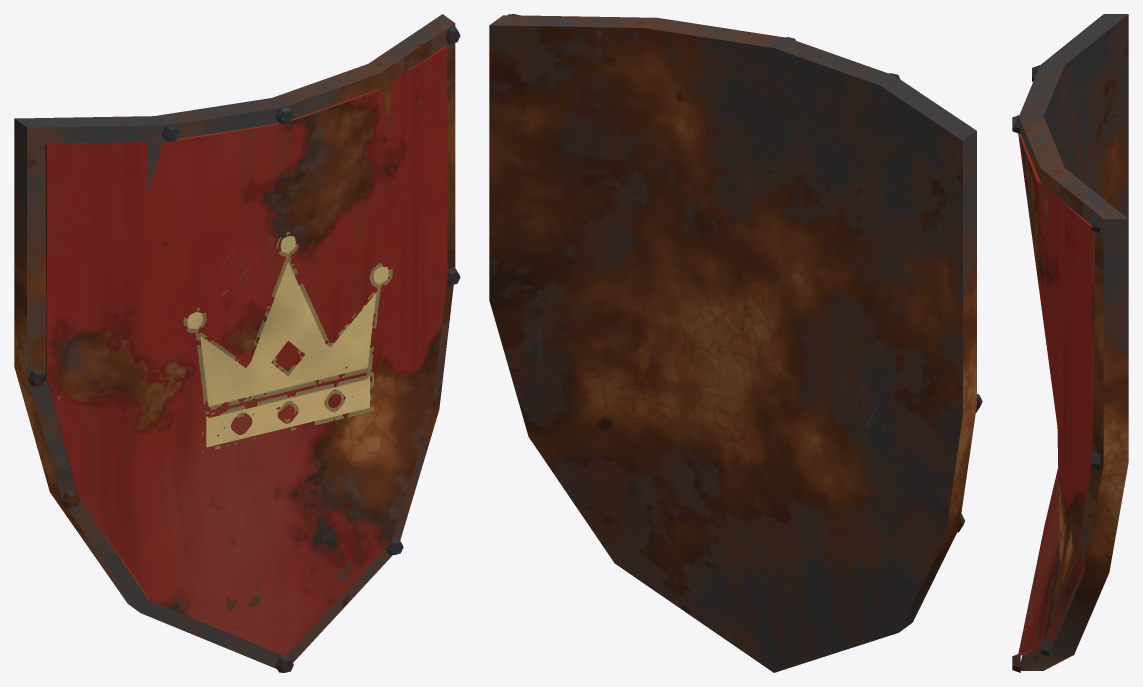
File: Shield_Crown.glb
The picture shows the model from 3 angles, left to right: view 1: azimuth 30°, elevation 25°; view 2: azimuth 150°, elevation 25°; view 3: azimuth 270°, elevation 25°; orthographic projection. The views are drawn at different scales.
Parts seen in each view (by area): view 1: Shield_Crown; view 2: Shield_Crown; view 3: Shield_Crown.
Part boxes in pixels (<box>): Shield_Crown: <box>14,14,460,672</box>; Shield_Crown: <box>489,14,982,672</box>; Shield_Crown: <box>1012,14,1128,672</box>.
Size of the model in its own units: 0.5932 by 0.742 by 0.142.
Materials: 4 (4 with a texture image).
